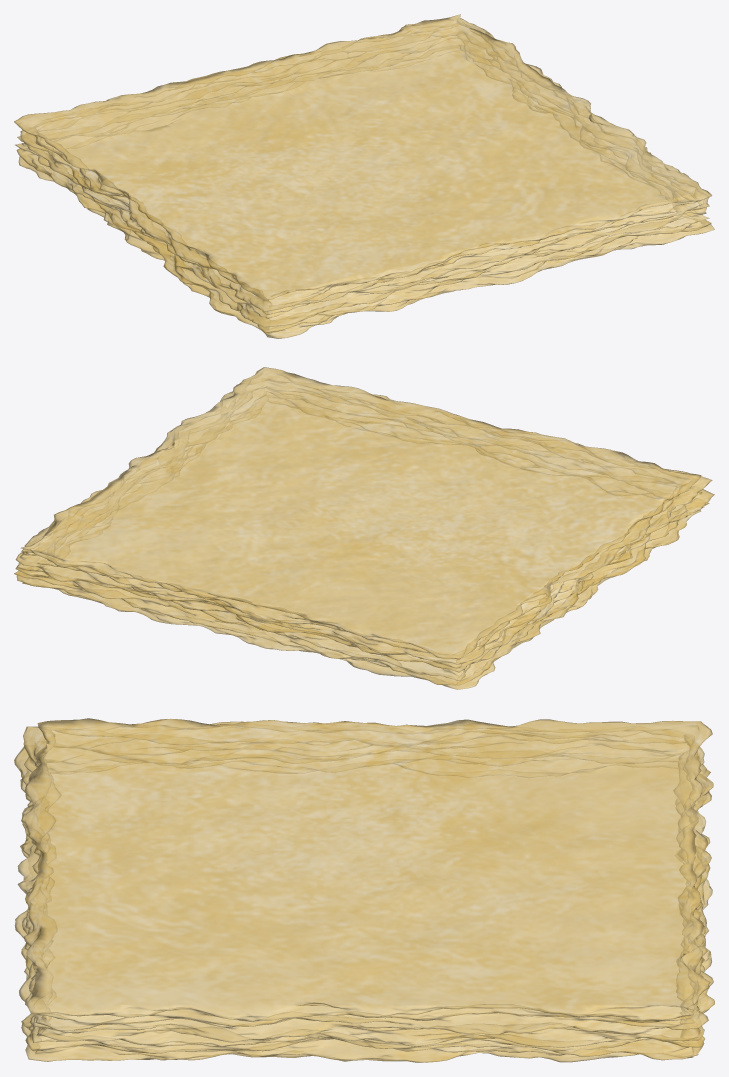
The model's file is medioContaminada.fbx.
3 views of the same model, one above another, from view 1: azimuth 30°, elevation 25°; view 2: azimuth 150°, elevation 25°; view 3: azimuth 270°, elevation 25° (orthographic). The views are drawn at different scales.
Visible parts, largest first — view 1: Cube_4; view 2: Cube_4; view 3: Cube_4.
Part boxes in pixels (x1,y1,x2,y2): Cube_4: (14, 14, 714, 338); Cube_4: (14, 367, 714, 689); Cube_4: (14, 718, 714, 1062).
Size of the model in its own units: 1216 by 95.89 by 1172.
1 material, 1 textured.
